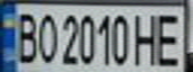0: (109, 10, 133, 66), (78, 9, 96, 66)
1: (93, 10, 112, 66)
2: (57, 9, 81, 66)
B: (9, 8, 42, 64)
E: (151, 8, 187, 68)
H: (130, 9, 163, 66)
O: (33, 8, 57, 65)
